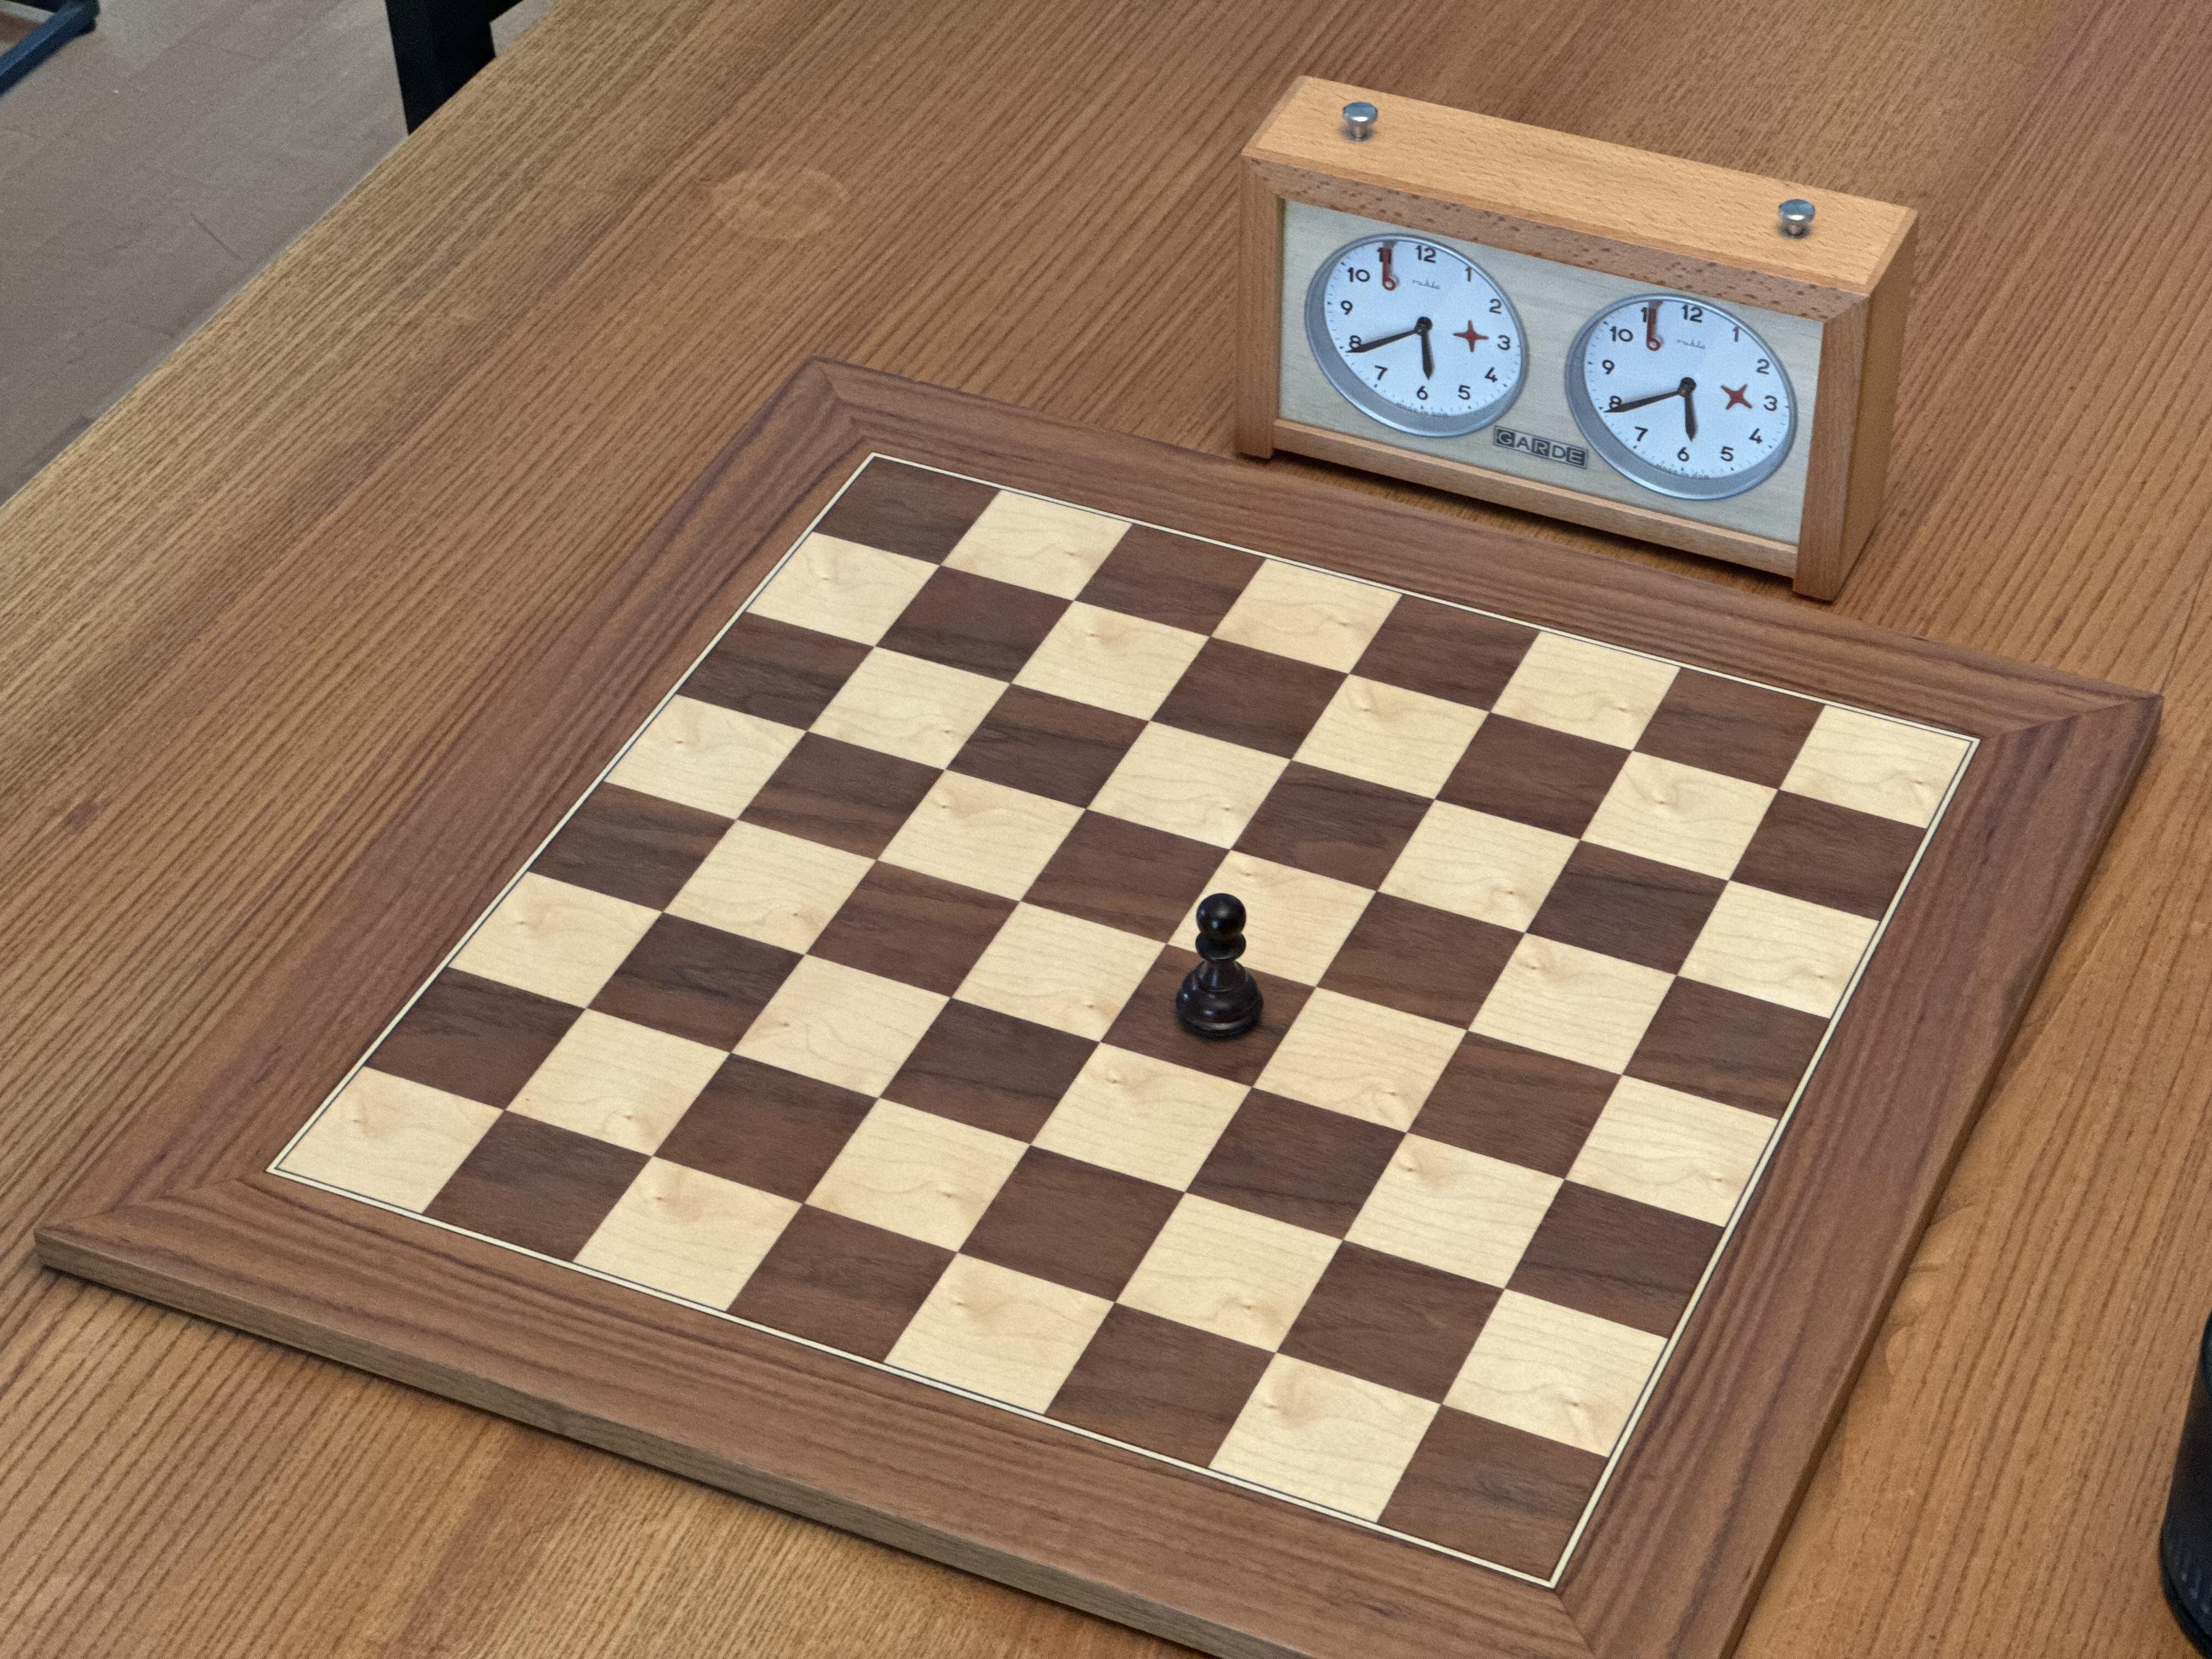Black Pawn: (1172, 889, 1267, 1046)
